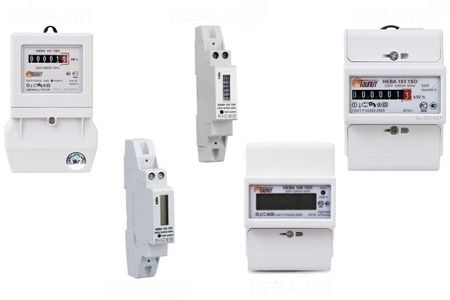counter: (344, 24, 445, 172), (243, 139, 337, 273), (8, 31, 95, 175)
counter_screen: (255, 192, 317, 211), (351, 88, 412, 100), (27, 53, 69, 64)
